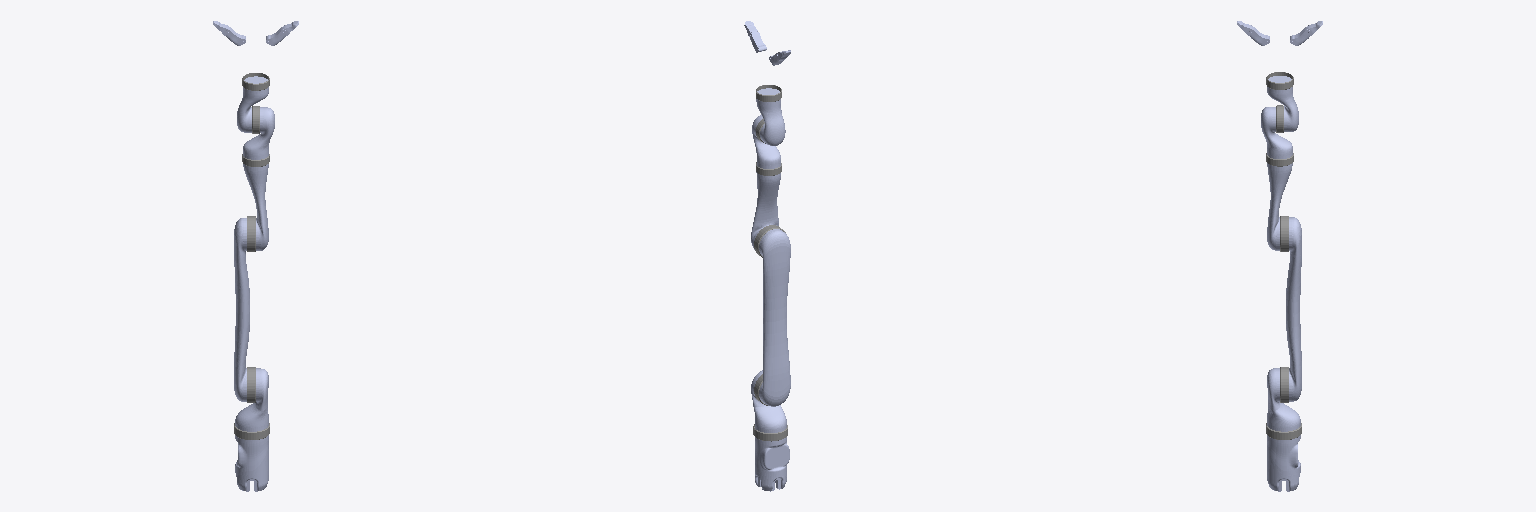
URDF robot description (j2s6s200):
<?xml version="1.0" ?>
<!-- =================================================================================== -->
<!-- |    This document was autogenerated by xacro from urdf/j2s6s200_standalone.xacro | -->
<!-- |    EDITING THIS FILE BY HAND IS NOT RECOMMENDED                                 | -->
<!-- =================================================================================== -->
<!-- j2s6_2 refers to jaco v2 6DOF spherical 2fingers -->
<robot name="j2s6s200" xmlns:body="http://playerstage.sourceforge.net/gazebo/xmlschema/#body" xmlns:controller="http://playerstage.sourceforge.net/gazebo/xmlschema/#controller" xmlns:gazebo="http://playerstage.sourceforge.net/gazebo/xmlschema/#gz" xmlns:geom="http://playerstage.sourceforge.net/gazebo/xmlschema/#geom" xmlns:interface="http://playerstage.sourceforge.net/gazebo/xmlschema/#interface" xmlns:joint="http://playerstage.sourceforge.net/gazebo/xmlschema/#joint" xmlns:model="http://playerstage.sourceforge.net/gazebo/xmlschema/#model" xmlns:physics="http://playerstage.sourceforge.net/gazebo/xmlschema/#physics" xmlns:renderable="http://playerstage.sourceforge.net/gazebo/xmlschema/#renderable" xmlns:rendering="http://playerstage.sourceforge.net/gazebo/xmlschema/#rendering" xmlns:sensor="http://playerstage.sourceforge.net/gazebo/xmlschema/#sensor" xmlns:xi="http://www.w3.org/2001/XInclude">
  <!-- links      		mesh_no
   base           		0
   shoulder       		1
   arm            		2
   forearm        		3
   wrist          		4
   arm_mico       		5
   arm_half1 (7dof)		6
   arm_half2 (7dof)		7
   wrist_spherical_1  8
   wrist_spherical_2  9

   hand 3 finger  		55
   hand_2finger   		56
   finger_proximal		57
   finger_distal      58
-->
  <!-- links      		mesh_no
   base           		0
   shoulder       		1
   arm            		2
   forearm        		3
   wrist          		4
   arm_mico       		5
   arm_half1 (7dof)		6
   arm_half2 (7dof)		7
   wrist_spherical_1  8
   wrist_spherical_2  9

   hand 3 finger  		55
   hand_2finger   		56
   finger_proximal		57
   finger_distal      58
-->
  <link name="root"/>
  <!-- for gazebo -->
  <link name="world"/>
  <joint name="connect_root_and_world" type="fixed">
    <child link="root"/>
    <parent link="world"/>
    <origin rpy="0 0 0" xyz="0 0 0"/>
  </joint>
  <!-- ros_control plugin -->
  <gazebo>
    <plugin filename="libgazebo_ros_control.so" name="gazebo_ros_control">
      <robotNamespace>j2s6s200</robotNamespace>
      <robotSimType>gazebo_ros_control/DefaultRobotHWSim</robotSimType>
      <legacyModeNS>true</legacyModeNS>
    </plugin>
  </gazebo>
  <link name="j2s6s200_link_base">
    <visual>
      <geometry>
        <mesh filename="package://kinova_description/meshes/base.dae"/>
      </geometry>
      <material name="carbon_fiber">
        <color rgba="0.792156862745098 0.819607843137255 0.933333333333333 1"/>
      </material>
    </visual>
    <collision>
      <geometry>
        <mesh filename="package://kinova_description/meshes/base.dae"/>
      </geometry>
    </collision>
    <inertial>
      <mass value="0.46784"/>
      <origin rpy="0 0 0" xyz="0 0 0.1255"/>
      <inertia ixx="0.000951270861568" ixy="0" ixz="0" iyy="0.000951270861568" iyz="0" izz="0.00037427200000000004"/>
    </inertial>
  </link>
  <joint name="j2s6s200_joint_base" type="fixed">
    <parent link="root"/>
    <child link="j2s6s200_link_base"/>
    <axis xyz="0 0 0"/>
    <origin rpy="0 0 0" xyz="0 0 0"/>
    <dynamics damping="0.0" friction="0.0"/>
  </joint>
  <link name="j2s6s200_link_1">
    <visual>
      <geometry>
        <mesh filename="package://kinova_description/meshes/shoulder.dae"/>
      </geometry>
      <material name="carbon_fiber">
        <color rgba="0.792156862745098 0.819607843137255 0.933333333333333 1"/>
      </material>
    </visual>
    <visual>
      <geometry>
        <mesh filename="package://kinova_description/meshes/ring_big.dae"/>
      </geometry>
    </visual>
    <collision>
      <geometry>
        <mesh filename="package://kinova_description/meshes/shoulder.dae"/>
      </geometry>
    </collision>
    <inertial>
      <mass value="0.7477"/>
      <origin xyz="0 -0.002 -0.0605"/>
      <inertia ixx="0.0015203172520400004" ixy="0" ixz="0" iyy="0.0015203172520400004" iyz="0" izz="0.00059816"/>
    </inertial>
  </link>
  <joint name="j2s6s200_joint_1" type="continuous">
    <parent link="j2s6s200_link_base"/>
    <child link="j2s6s200_link_1"/>
    <axis xyz="0 0 1"/>
    <limit effort="40" velocity="0.6283185307179586"/>
    <origin rpy="0 3.141592653589793 0" xyz="0 0 0.15675"/>
    <dynamics damping="0.0" friction="0.0"/>
  </joint>
  <transmission name="j2s6s200_joint_1_trans">
    <type>transmission_interface/SimpleTransmission</type>
    <joint name="j2s6s200_joint_1">
      <hardwareInterface>hardware_interface/EffortJointInterface</hardwareInterface>
    </joint>
    <actuator name="j2s6s200_joint_1_actuator">
      <hardwareInterface>hardware_interface/EffortJointInterface</hardwareInterface>
      <mechanicalReduction>160</mechanicalReduction>
    </actuator>
  </transmission>
  <!--For torque sensing in simulation-->
  <gazebo reference="j2s6s200_joint_1">
    <provideFeedback>true</provideFeedback>
  </gazebo>
  <gazebo>
    <plugin filename="libgazebo_ros_ft_sensor.so" name="ft_sensor">
      <updateRate>30.0</updateRate>
      <topicName>j2s6s200_joint_1_ft_sensor_topic</topicName>
      <jointName>j2s6s200_joint_1</jointName>
    </plugin>
  </gazebo>
  <link name="j2s6s200_link_2">
    <visual>
      <geometry>
        <mesh filename="package://kinova_description/meshes/arm.dae"/>
      </geometry>
      <material name="carbon_fiber">
        <color rgba="0.792156862745098 0.819607843137255 0.933333333333333 1"/>
      </material>
    </visual>
    <visual>
      <geometry>
        <mesh filename="package://kinova_description/meshes/ring_big.dae"/>
      </geometry>
    </visual>
    <collision>
      <geometry>
        <mesh filename="package://kinova_description/meshes/arm.dae"/>
      </geometry>
    </collision>
    <inertial>
      <mass value="0.99"/>
      <origin xyz="0 -0.2065 -0.01"/>
      <inertia ixx="0.010502207990999999" ixy="0" ixz="0" iyy="0.0007920000000000001" iyz="0" izz="0.010502207990999999"/>
    </inertial>
  </link>
  <joint name="j2s6s200_joint_2" type="revolute">
    <parent link="j2s6s200_link_1"/>
    <child link="j2s6s200_link_2"/>
    <axis xyz="0 0 1"/>
    <limit effort="80" lower="0.8203047484373349" upper="5.462880558742252" velocity="0.6283185307179586"/>
    <origin rpy="-1.5707963267948966 0 3.141592653589793" xyz="0 0.0016 -0.11875"/>
    <dynamics damping="0.0" friction="0.0"/>
  </joint>
  <transmission name="j2s6s200_joint_2_trans">
    <type>transmission_interface/SimpleTransmission</type>
    <joint name="j2s6s200_joint_2">
      <hardwareInterface>hardware_interface/EffortJointInterface</hardwareInterface>
    </joint>
    <actuator name="j2s6s200_joint_2_actuator">
      <hardwareInterface>hardware_interface/EffortJointInterface</hardwareInterface>
      <mechanicalReduction>160</mechanicalReduction>
    </actuator>
  </transmission>
  <!--For torque sensing in simulation-->
  <gazebo reference="j2s6s200_joint_2">
    <provideFeedback>true</provideFeedback>
  </gazebo>
  <gazebo>
    <plugin filename="libgazebo_ros_ft_sensor.so" name="ft_sensor">
      <updateRate>30.0</updateRate>
      <topicName>j2s6s200_joint_2_ft_sensor_topic</topicName>
      <jointName>j2s6s200_joint_2</jointName>
    </plugin>
  </gazebo>
  <link name="j2s6s200_link_3">
    <visual>
      <geometry>
        <mesh filename="package://kinova_description/meshes/forearm.dae"/>
      </geometry>
      <material name="carbon_fiber">
        <color rgba="0.792156862745098 0.819607843137255 0.933333333333333 1"/>
      </material>
    </visual>
    <visual>
      <geometry>
        <mesh filename="package://kinova_description/meshes/ring_big.dae"/>
      </geometry>
    </visual>
    <collision>
      <geometry>
        <mesh filename="package://kinova_description/meshes/forearm.dae"/>
      </geometry>
    </collision>
    <inertial>
      <mass value="0.6763"/>
      <origin xyz="0 0.081 -0.0086"/>
      <inertia ixx="0.0014202243190800001" ixy="0" ixz="0" iyy="0.000304335" iyz="0" izz="0.0014202243190800001"/>
    </inertial>
  </link>
  <joint name="j2s6s200_joint_3" type="revolute">
    <parent link="j2s6s200_link_2"/>
    <child link="j2s6s200_link_3"/>
    <axis xyz="0 0 1"/>
    <limit effort="40" lower="0.33161255787892263" upper="5.951572749300664" velocity="0.6283185307179586"/>
    <origin rpy="0 3.141592653589793 0" xyz="0 -0.410 0"/>
    <dynamics damping="0.0" friction="0.0"/>
  </joint>
  <transmission name="j2s6s200_joint_3_trans">
    <type>transmission_interface/SimpleTransmission</type>
    <joint name="j2s6s200_joint_3">
      <hardwareInterface>hardware_interface/EffortJointInterface</hardwareInterface>
    </joint>
    <actuator name="j2s6s200_joint_3_actuator">
      <hardwareInterface>hardware_interface/EffortJointInterface</hardwareInterface>
      <mechanicalReduction>160</mechanicalReduction>
    </actuator>
  </transmission>
  <!--For torque sensing in simulation-->
  <gazebo reference="j2s6s200_joint_3">
    <provideFeedback>true</provideFeedback>
  </gazebo>
  <gazebo>
    <plugin filename="libgazebo_ros_ft_sensor.so" name="ft_sensor">
      <updateRate>30.0</updateRate>
      <topicName>j2s6s200_joint_3_ft_sensor_topic</topicName>
      <jointName>j2s6s200_joint_3</jointName>
    </plugin>
  </gazebo>
  <link name="j2s6s200_link_4">
    <visual>
      <geometry>
        <mesh filename="package://kinova_description/meshes/wrist_spherical_1.dae"/>
      </geometry>
      <material name="carbon_fiber">
        <color rgba="0.792156862745098 0.819607843137255 0.933333333333333 1"/>
      </material>
    </visual>
    <visual>
      <geometry>
        <mesh filename="package://kinova_description/meshes/ring_small.dae"/>
      </geometry>
    </visual>
    <collision>
      <geometry>
        <mesh filename="package://kinova_description/meshes/wrist_spherical_1.dae"/>
      </geometry>
    </collision>
    <inertial>
      <mass value="0.463"/>
      <origin xyz="0 0.0028848942 -0.0541932613"/>
      <inertia ixx="0.0004321316048000001" ixy="0" ixz="0" iyy="0.0004321316048000001" iyz="0" izz="9.260000000000001e-05"/>
    </inertial>
  </link>
  <joint name="j2s6s200_joint_4" type="continuous">
    <parent link="j2s6s200_link_3"/>
    <child link="j2s6s200_link_4"/>
    <axis xyz="0 0 1"/>
    <limit effort="20" velocity="0.8377580409572781"/>
    <origin rpy="-1.5707963267948966 0 3.141592653589793" xyz="0 0.2073 -0.0114"/>
    <dynamics damping="0.0" friction="0.0"/>
  </joint>
  <transmission name="j2s6s200_joint_4_trans">
    <type>transmission_interface/SimpleTransmission</type>
    <joint name="j2s6s200_joint_4">
      <hardwareInterface>hardware_interface/EffortJointInterface</hardwareInterface>
    </joint>
    <actuator name="j2s6s200_joint_4_actuator">
      <hardwareInterface>hardware_interface/EffortJointInterface</hardwareInterface>
      <mechanicalReduction>160</mechanicalReduction>
    </actuator>
  </transmission>
  <!--For torque sensing in simulation-->
  <gazebo reference="j2s6s200_joint_4">
    <provideFeedback>true</provideFeedback>
  </gazebo>
  <gazebo>
    <plugin filename="libgazebo_ros_ft_sensor.so" name="ft_sensor">
      <updateRate>30.0</updateRate>
      <topicName>j2s6s200_joint_4_ft_sensor_topic</topicName>
      <jointName>j2s6s200_joint_4</jointName>
    </plugin>
  </gazebo>
  <link name="j2s6s200_link_5">
    <visual>
      <geometry>
        <mesh filename="package://kinova_description/meshes/wrist_spherical_2.dae"/>
      </geometry>
      <material name="carbon_fiber">
        <color rgba="0.792156862745098 0.819607843137255 0.933333333333333 1"/>
      </material>
    </visual>
    <visual>
      <geometry>
        <mesh filename="package://kinova_description/meshes/ring_small.dae"/>
      </geometry>
    </visual>
    <collision>
      <geometry>
        <mesh filename="package://kinova_description/meshes/wrist_spherical_2.dae"/>
      </geometry>
    </collision>
    <inertial>
      <mass value="0.463"/>
      <origin xyz="0 0.0497208855 -0.0028562765"/>
      <inertia ixx="0.0004321316048000001" ixy="0" ixz="0" iyy="9.260000000000001e-05" iyz="0" izz="0.0004321316048000001"/>
    </inertial>
  </link>
  <joint name="j2s6s200_joint_5" type="revolute">
    <parent link="j2s6s200_link_4"/>
    <child link="j2s6s200_link_5"/>
    <axis xyz="0 0 1"/>
    <limit effort="20" lower="0.5235987755982988" upper="5.759586531581287" velocity="0.8377580409572781"/>
    <origin rpy="1.5707963267948966 0 3.141592653589793" xyz="0 0 -0.10375"/>
    <dynamics damping="0.0" friction="0.0"/>
  </joint>
  <transmission name="j2s6s200_joint_5_trans">
    <type>transmission_interface/SimpleTransmission</type>
    <joint name="j2s6s200_joint_5">
      <hardwareInterface>hardware_interface/EffortJointInterface</hardwareInterface>
    </joint>
    <actuator name="j2s6s200_joint_5_actuator">
      <hardwareInterface>hardware_interface/EffortJointInterface</hardwareInterface>
      <mechanicalReduction>160</mechanicalReduction>
    </actuator>
  </transmission>
  <!--For torque sensing in simulation-->
  <gazebo reference="j2s6s200_joint_5">
    <provideFeedback>true</provideFeedback>
  </gazebo>
  <gazebo>
    <plugin filename="libgazebo_ros_ft_sensor.so" name="ft_sensor">
      <updateRate>30.0</updateRate>
      <topicName>j2s6s200_joint_5_ft_sensor_topic</topicName>
      <jointName>j2s6s200_joint_5</jointName>
    </plugin>
  </gazebo>
  <link name="j2s6s200_link_6">
    <visual>
      <geometry>
        <mesh filename="package://kinova_description/meshes/hand_2finger.dae"/>
      </geometry>
      <material name="carbon_fiber">
        <color rgba="0.792156862745098 0.819607843137255 0.933333333333333 1"/>
      </material>
    </visual>
    <visual>
      <geometry>
        <mesh filename="package://kinova_description/meshes/ring_small.dae"/>
      </geometry>
    </visual>
    <collision>
      <geometry>
        <mesh filename="package://kinova_description/meshes/hand_2finger.dae"/>
      </geometry>
    </collision>
    <inertial>
      <mass value="0.99"/>
      <origin xyz="0 0 -0.06"/>
      <inertia ixx="0.00034532361869999995" ixy="0" ixz="0" iyy="0.00034532361869999995" iyz="0" izz="0.0005815999999999999"/>
    </inertial>
  </link>
  <joint name="j2s6s200_joint_6" type="continuous">
    <parent link="j2s6s200_link_5"/>
    <child link="j2s6s200_link_6"/>
    <axis xyz="0 0 1"/>
    <limit effort="20" velocity="0.8377580409572781"/>
    <origin rpy="-1.5707963267948966 0 3.141592653589793" xyz="0 0.10375 0"/>
    <dynamics damping="0.0" friction="0.0"/>
  </joint>
  <transmission name="j2s6s200_joint_6_trans">
    <type>transmission_interface/SimpleTransmission</type>
    <joint name="j2s6s200_joint_6">
      <hardwareInterface>hardware_interface/EffortJointInterface</hardwareInterface>
    </joint>
    <actuator name="j2s6s200_joint_6_actuator">
      <hardwareInterface>hardware_interface/EffortJointInterface</hardwareInterface>
      <mechanicalReduction>160</mechanicalReduction>
    </actuator>
  </transmission>
  <!--For torque sensing in simulation-->
  <gazebo reference="j2s6s200_joint_6">
    <provideFeedback>true</provideFeedback>
  </gazebo>
  <gazebo>
    <plugin filename="libgazebo_ros_ft_sensor.so" name="ft_sensor">
      <updateRate>30.0</updateRate>
      <topicName>j2s6s200_joint_6_ft_sensor_topic</topicName>
      <jointName>j2s6s200_joint_6</jointName>
    </plugin>
  </gazebo>
  <link name="j2s6s200_end_effector"/>
  <joint name="j2s6s200_joint_end_effector" type="fixed">
    <parent link="j2s6s200_link_6"/>
    <child link="j2s6s200_end_effector"/>
    <axis xyz="0 0 0"/>
    <origin rpy="3.141592653589793 0 1.5707963267948966" xyz="0 0 -0.1600"/>
  </joint>
  <link name="j2s6s200_link_finger_1">
    <visual>
      <geometry>
        <mesh filename="package://kinova_description/meshes/finger_proximal.dae"/>
      </geometry>
      <material name="carbon_fiber">
        <color rgba="0.792156862745098 0.819607843137255 0.933333333333333 1"/>
      </material>
    </visual>
    <collision>
      <geometry>
        <mesh filename="package://kinova_description/meshes/finger_proximal.dae"/>
      </geometry>
    </collision>
    <inertial>
      <mass value="0.01"/>
      <origin xyz="0.022 0 0"/>
      <inertia ixx="7.8999684e-07" ixy="0" ixz="0" iyy="7.8999684e-07" iyz="0" izz="8e-08"/>
    </inertial>
  </link>
  <joint name="j2s6s200_joint_finger_1" type="revolute">
    <parent link="j2s6s200_link_6"/>
    <child link="j2s6s200_link_finger_1"/>
    <axis xyz="0 0 1"/>
    <origin rpy="-1.570796327 .649262481663582 1.57079632679490" xyz="-0.0025 0.03095 -0.11482"/>
    <limit effort="2" lower="0" upper="1.51" velocity="1"/>
  </joint>
  <transmission name="j2s6s200_joint_finger_1_trans">
    <type>transmission_interface/SimpleTransmission</type>
    <joint name="j2s6s200_joint_finger_1">
      <hardwareInterface>hardware_interface/EffortJointInterface</hardwareInterface>
    </joint>
    <actuator name="j2s6s200_joint_finger_1_actuator">
      <hardwareInterface>hardware_interface/EffortJointInterface</hardwareInterface>
      <mechanicalReduction>1</mechanicalReduction>
    </actuator>
  </transmission>
  <link name="j2s6s200_link_finger_tip_1">
    <visual>
      <geometry>
        <mesh filename="package://kinova_description/meshes/finger_distal.dae"/>
      </geometry>
      <material name="carbon_fiber">
        <color rgba="0.792156862745098 0.819607843137255 0.933333333333333 1"/>
      </material>
    </visual>
    <collision>
      <geometry>
        <mesh filename="package://kinova_description/meshes/finger_distal.dae"/>
      </geometry>
    </collision>
    <inertial>
      <mass value="0.01"/>
      <origin xyz="0.022 0 0"/>
      <inertia ixx="7.8999684e-07" ixy="0" ixz="0" iyy="7.8999684e-07" iyz="0" izz="8e-08"/>
    </inertial>
  </link>
  <joint name="j2s6s200_joint_finger_tip_1" type="revolute">
    <parent link="j2s6s200_link_finger_1"/>
    <child link="j2s6s200_link_finger_tip_1"/>
    <axis xyz="0 0 1"/>
    <origin rpy="0 0 0" xyz="0.044 -0.003 0"/>
    <limit effort="2" lower="0" upper="2" velocity="1"/>
  </joint>
  <transmission name="j2s6s200_joint_finger_tip_1_trans">
    <type>transmission_interface/SimpleTransmission</type>
    <joint name="j2s6s200_joint_finger_tip_1">
      <hardwareInterface>hardware_interface/EffortJointInterface</hardwareInterface>
    </joint>
    <actuator name="j2s6s200_joint_finger_tip_1_actuator">
      <hardwareInterface>hardware_interface/EffortJointInterface</hardwareInterface>
      <mechanicalReduction>1</mechanicalReduction>
    </actuator>
  </transmission>
  <link name="j2s6s200_link_finger_2">
    <visual>
      <geometry>
        <mesh filename="package://kinova_description/meshes/finger_proximal.dae"/>
      </geometry>
      <material name="carbon_fiber">
        <color rgba="0.792156862745098 0.819607843137255 0.933333333333333 1"/>
      </material>
    </visual>
    <collision>
      <geometry>
        <mesh filename="package://kinova_description/meshes/finger_proximal.dae"/>
      </geometry>
    </collision>
    <inertial>
      <mass value="0.01"/>
      <origin xyz="0.022 0 0"/>
      <inertia ixx="7.8999684e-07" ixy="0" ixz="0" iyy="7.8999684e-07" iyz="0" izz="8e-08"/>
    </inertial>
  </link>
  <joint name="j2s6s200_joint_finger_2" type="revolute">
    <parent link="j2s6s200_link_6"/>
    <child link="j2s6s200_link_finger_2"/>
    <axis xyz="0 0 1"/>
    <origin rpy="-1.570796327 .649262481663582 -1.57079632679490" xyz="-0.0025 -0.03095 -0.11482"/>
    <limit effort="2" lower="0" upper="1.51" velocity="1"/>
  </joint>
  <transmission name="j2s6s200_joint_finger_2_trans">
    <type>transmission_interface/SimpleTransmission</type>
    <joint name="j2s6s200_joint_finger_2">
      <hardwareInterface>hardware_interface/EffortJointInterface</hardwareInterface>
    </joint>
    <actuator name="j2s6s200_joint_finger_2_actuator">
      <hardwareInterface>hardware_interface/EffortJointInterface</hardwareInterface>
      <mechanicalReduction>1</mechanicalReduction>
    </actuator>
  </transmission>
  <link name="j2s6s200_link_finger_tip_2">
    <visual>
      <geometry>
        <mesh filename="package://kinova_description/meshes/finger_distal.dae"/>
      </geometry>
      <material name="carbon_fiber">
        <color rgba="0.792156862745098 0.819607843137255 0.933333333333333 1"/>
      </material>
    </visual>
    <collision>
      <geometry>
        <mesh filename="package://kinova_description/meshes/finger_distal.dae"/>
      </geometry>
    </collision>
    <inertial>
      <mass value="0.01"/>
      <origin xyz="0.022 0 0"/>
      <inertia ixx="7.8999684e-07" ixy="0" ixz="0" iyy="7.8999684e-07" iyz="0" izz="8e-08"/>
    </inertial>
  </link>
  <joint name="j2s6s200_joint_finger_tip_2" type="revolute">
    <parent link="j2s6s200_link_finger_2"/>
    <child link="j2s6s200_link_finger_tip_2"/>
    <axis xyz="0 0 1"/>
    <origin rpy="0 0 0" xyz="0.044 -0.003 0"/>
    <limit effort="2" lower="0" upper="2" velocity="1"/>
  </joint>
  <transmission name="j2s6s200_joint_finger_tip_2_trans">
    <type>transmission_interface/SimpleTransmission</type>
    <joint name="j2s6s200_joint_finger_tip_2">
      <hardwareInterface>hardware_interface/EffortJointInterface</hardwareInterface>
    </joint>
    <actuator name="j2s6s200_joint_finger_tip_2_actuator">
      <hardwareInterface>hardware_interface/EffortJointInterface</hardwareInterface>
      <mechanicalReduction>1</mechanicalReduction>
    </actuator>
  </transmission>
</robot>

--- Render facts (derived) ---
Views: 3 orthographic renders of the robot side by side, from view 1: azimuth 90°, elevation 25°; view 2: azimuth 210°, elevation 25°; view 3: azimuth 270°, elevation 25°.
Robot: j2s6s200 — 14 links, 13 joints (7 revolute, 3 continuous, 3 fixed); root link world; default pose: all joints at 0 but 3 set to mid-range because 0 is outside their limits (j2s6s200_joint_2 = 3.14, j2s6s200_joint_3 = 3.14, j2s6s200_joint_5 = 3.14).
Links seen in each view (by area): view 1: j2s6s200_link_2, j2s6s200_link_base, j2s6s200_link_1, j2s6s200_link_3, j2s6s200_link_4, j2s6s200_link_5; view 2: j2s6s200_link_2, j2s6s200_link_base, j2s6s200_link_3, j2s6s200_link_1, j2s6s200_link_5, j2s6s200_link_4; view 3: j2s6s200_link_2, j2s6s200_link_base, j2s6s200_link_1, j2s6s200_link_3, j2s6s200_link_4, j2s6s200_link_5.
Boxes of the visible links, bbox=[...] form: j2s6s200_link_2: bbox=[234, 218, 255, 402]; j2s6s200_link_base: bbox=[235, 435, 268, 491]; j2s6s200_link_1: bbox=[234, 368, 269, 439]; j2s6s200_link_3: bbox=[243, 164, 268, 251]; j2s6s200_link_4: bbox=[242, 107, 274, 166]; j2s6s200_link_5: bbox=[237, 76, 268, 133]; j2s6s200_link_2: bbox=[754, 229, 790, 406]; j2s6s200_link_base: bbox=[755, 437, 789, 491]; j2s6s200_link_3: bbox=[751, 172, 785, 257]; j2s6s200_link_1: bbox=[751, 370, 787, 441]; j2s6s200_link_5: bbox=[756, 88, 785, 145]; j2s6s200_link_4: bbox=[752, 115, 781, 175]; j2s6s200_link_2: bbox=[1280, 217, 1301, 402]; j2s6s200_link_base: bbox=[1267, 435, 1300, 491]; j2s6s200_link_1: bbox=[1266, 368, 1301, 439]; j2s6s200_link_3: bbox=[1267, 163, 1292, 251]; j2s6s200_link_4: bbox=[1261, 107, 1293, 166]; j2s6s200_link_5: bbox=[1267, 76, 1298, 132].
Bounding box of the posed robot: 0.0889 × 0.2123 × 1.26 m (x, y, z).
16 mesh visuals loaded from 11 distinct referenced files (10 Collada DAE); not drawn: 1 (reference not matched to a file when rendering).